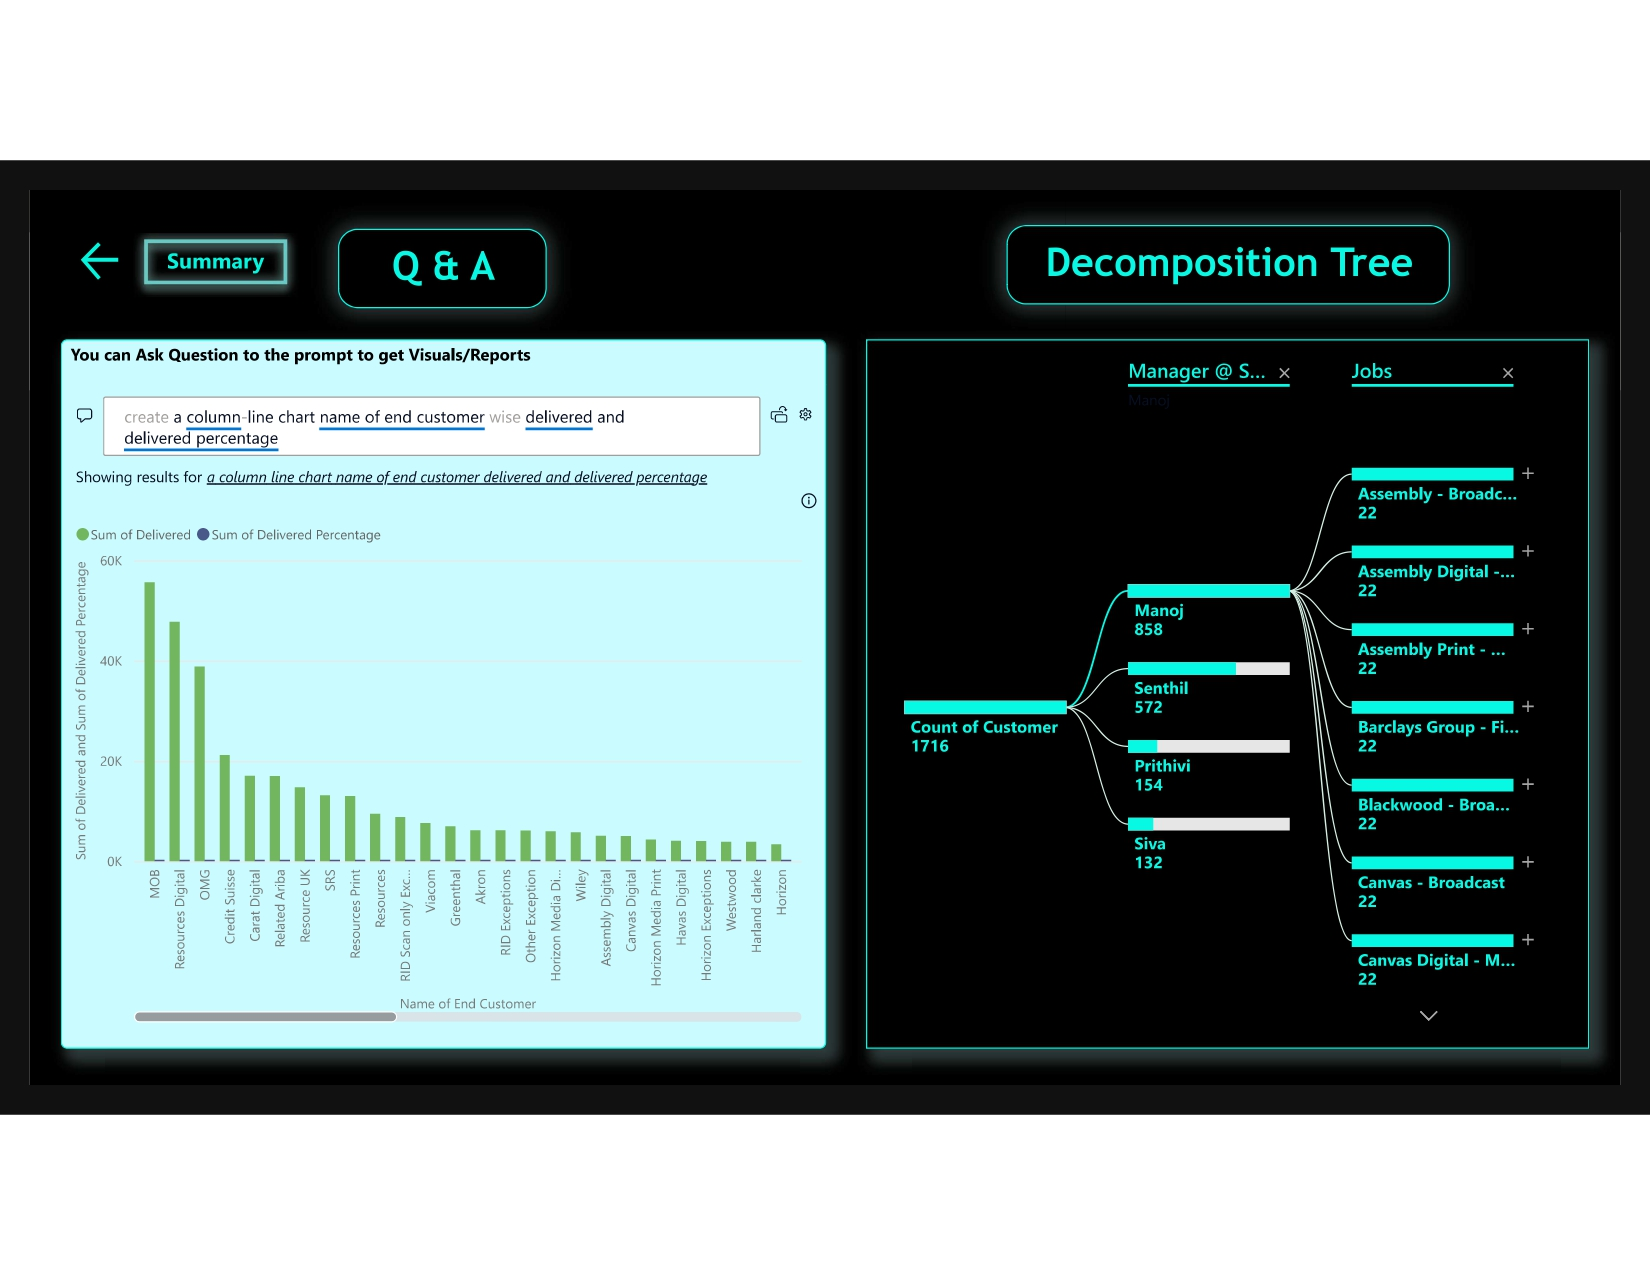

Layout of this report page (visuals, bound fields, positions):
{"tool":"powerbi","page":{"name":"QA & Decomposition Tree","canvas":[1280,720],"ordinal":5},"visuals":[{"type":"textbox","box":[786.3,28.2,356.7,63.9],"z":0},{"type":"actionButton","box":[37.2,37.2,56.5,40.1],"z":0,"group":"g1"},{"type":"textbox","box":[248.2,31.2,168,63.9],"z":1000},{"type":"qnaVisual","title":"You can Ask Question to the prompt to get Visuals/Reports","box":[25.3,120.4,615.4,570.8],"z":2000},{"type":"decompositionTreeVisual","fields":{"ExplainBy":["Sep.Manager @ Springbord","Sep.Jobs","Sep.Name of the process"],"Analyze":["CountNonNull(Sep.Name of End Customer)"]},"box":[673.3,120.4,581.2,570.8],"z":3000},{"type":"group","id":"g1","title":"Group 1","box":[37.2,37.2,56.5,40.1],"z":3001},{"type":"actionButton","box":[83.2,31.2,132.3,53.5],"z":3002}]}

Visuals, with their boxes on the page's 1280x720 design canvas (x1, y1, x2, y2). These are canvas units, not pixel positions in the 1650x1275 screenshot, which may show the page scaled, cropped or inside an application window:
textbox: (786, 28, 1143, 92)
actionButton: (37, 37, 94, 77)
textbox: (248, 31, 416, 95)
"You can Ask Question to the prompt to get Visuals/Reports" qnaVisual: (25, 120, 641, 691)
decompositionTreeVisual - Sep.Manager @ Springbord x Sep.Jobs: (673, 120, 1254, 691)
"Group 1" group: (37, 37, 94, 77)
actionButton: (83, 31, 216, 85)
